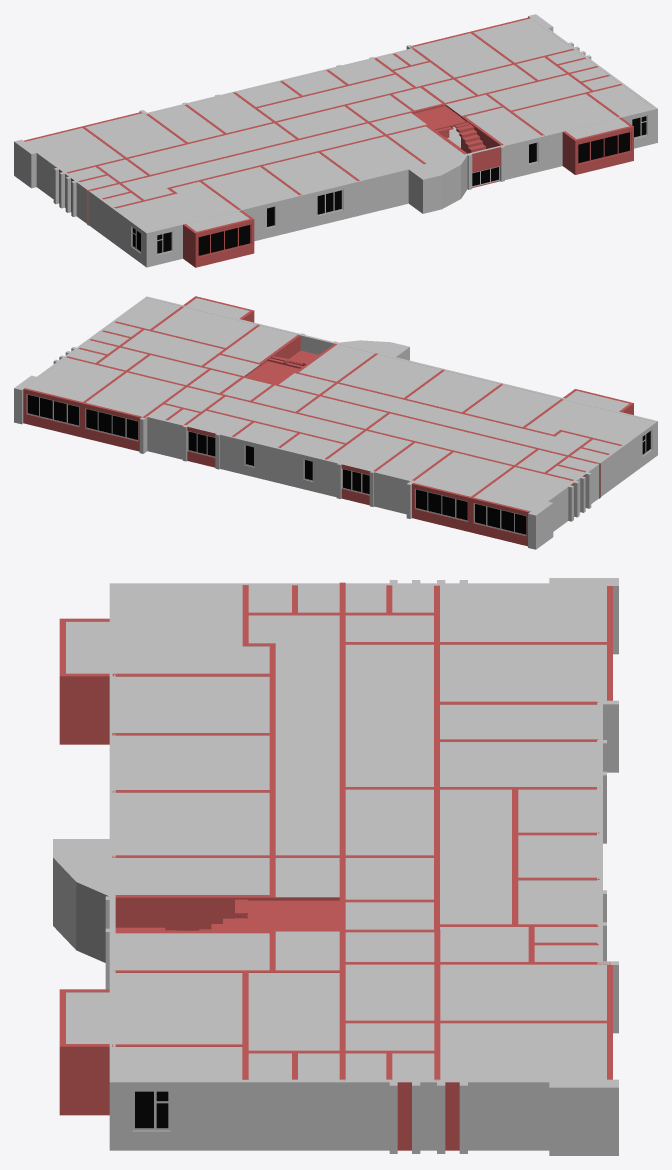
Rendered from SM_house_section_8.fbx.
3 renders of one model, top to bottom at view 1: azimuth 30°, elevation 25°; view 2: azimuth 150°, elevation 25°; view 3: azimuth 270°, elevation 25°, orthographic. The views are drawn at different scales.
Visible parts, largest first — view 1: Boole_7; view 2: Boole_7; view 3: Boole_7.
Part boxes in pixels (x1=…): Boole_7: x1=14, y1=14, x2=657, y2=267; Boole_7: x1=14, y1=296, x2=657, y2=549; Boole_7: x1=53, y1=578, x2=618, y2=1155.
Size of the model in its own units: 3994 by 250 by 1875.
